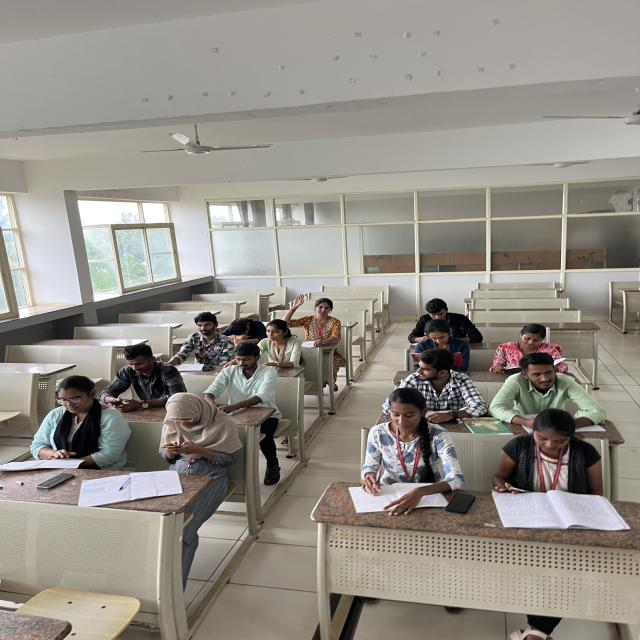Hand Rising: (278, 290, 348, 346)
Reading: (474, 404, 636, 532), (12, 375, 122, 470)
Sleeping: (221, 309, 267, 342)
Using Phone: (147, 387, 240, 478), (103, 340, 174, 408)
Writing: (337, 387, 468, 508)
